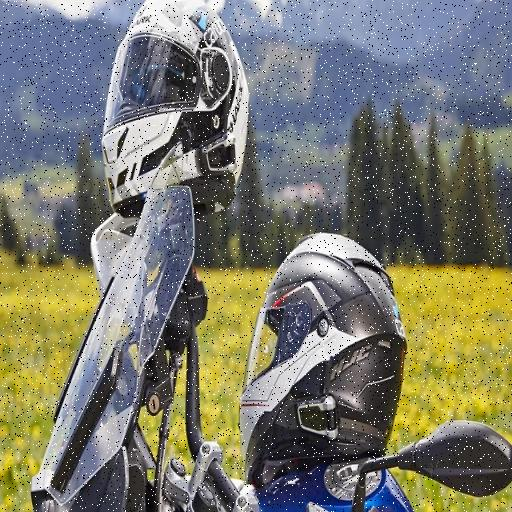Helmet: (222, 239, 420, 481), (102, 0, 258, 217)
